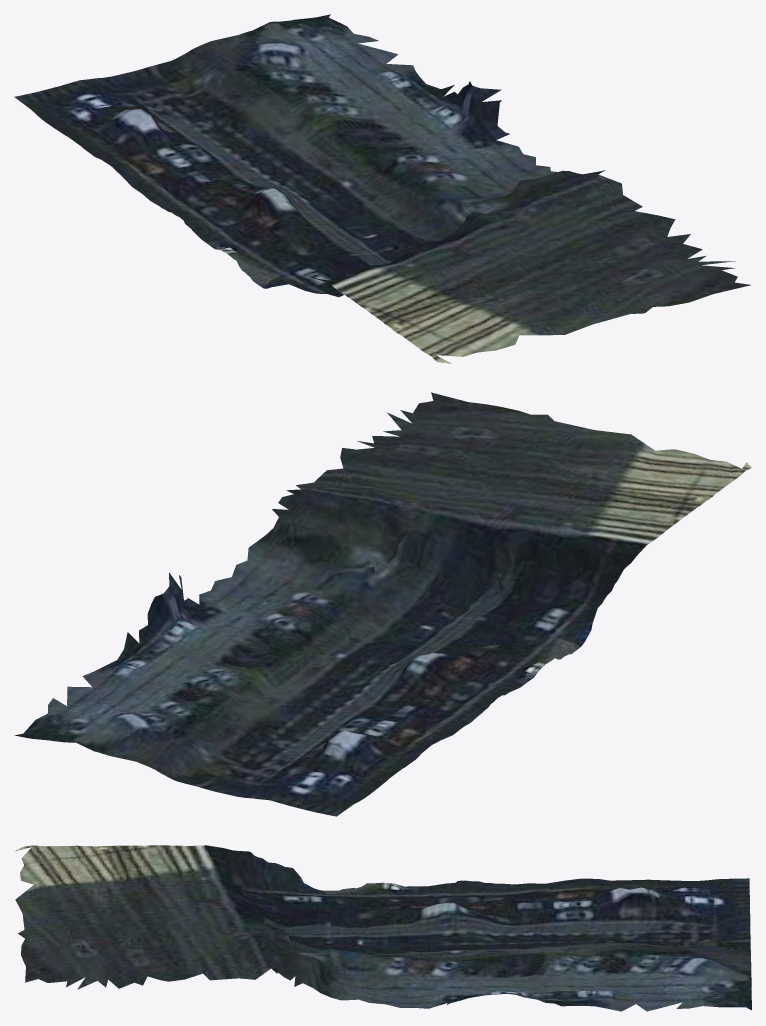
File: Tile_002_004_L14_24.glb
3 views of the same model, one above another, from view 1: azimuth 30°, elevation 25°; view 2: azimuth 150°, elevation 25°; view 3: azimuth 270°, elevation 25° (orthographic). The views are drawn at different scales.
Visible parts, largest first — view 1: rtc; view 2: rtc; view 3: rtc.
Part boxes in pixels (bbox=[...]): rtc: bbox=[14, 14, 750, 363]; rtc: bbox=[14, 392, 751, 816]; rtc: bbox=[15, 845, 751, 1011].
Bounding box in the file's own units: 41.72 × 7.15 × 91.03.
Materials: 1 (1 with a texture image).
